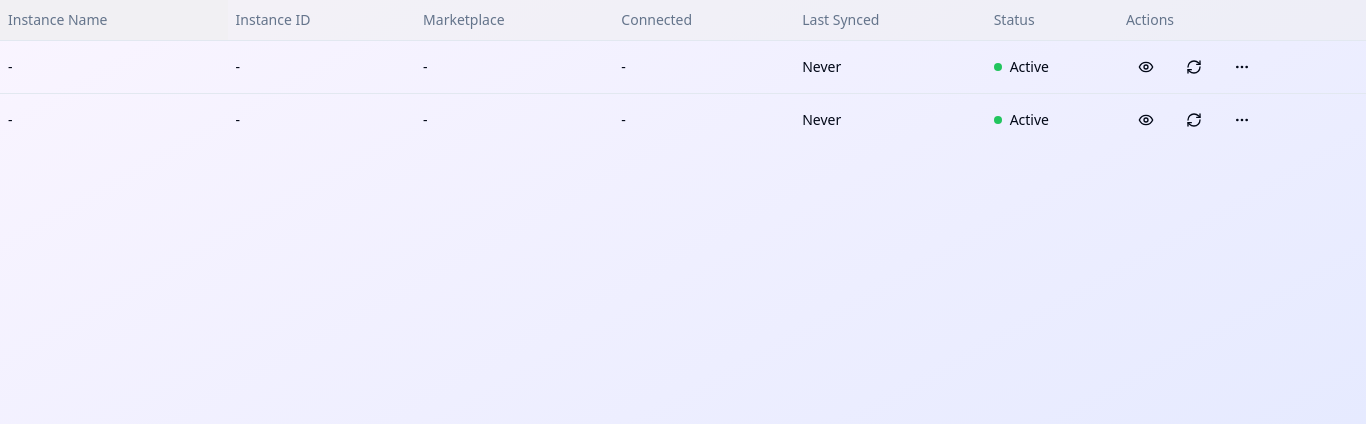
AccountTypeTable › Actions › should show type-specific actions for AMC
The width and height of the screenshot is (1366, 424).
Click the 3rd button named "More" at (1242, 66), box x1=1222 y1=48 x2=1262 y2=84
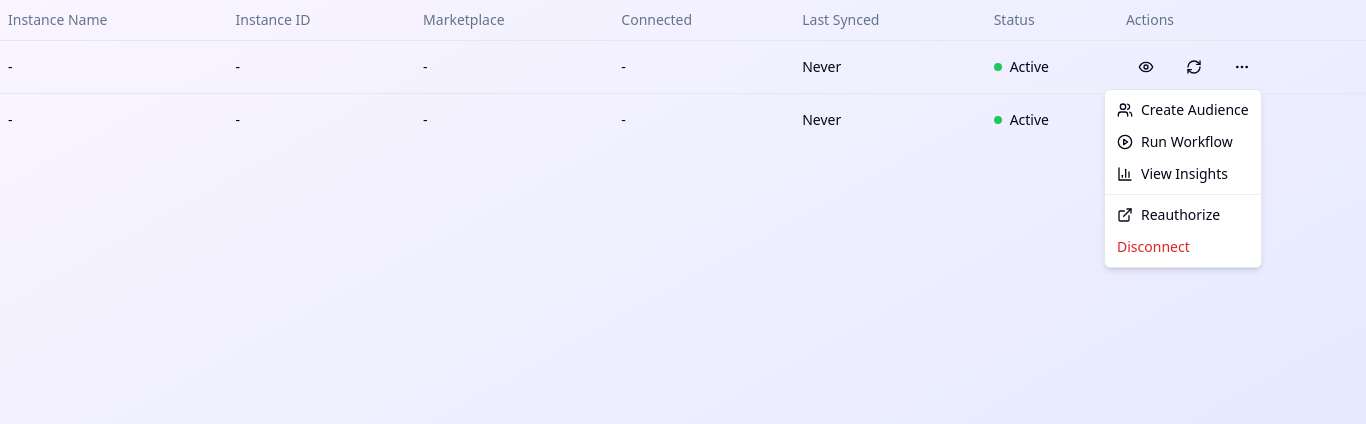
Check: the menu item "Create Audience" is shown, box x1=1117 y1=100 x2=1249 y2=119
Check: the menu item "Run Workflow" is shown, box x1=1117 y1=132 x2=1233 y2=151
Check: the menu item "View Insights" is shown, box x1=1117 y1=164 x2=1228 y2=183
